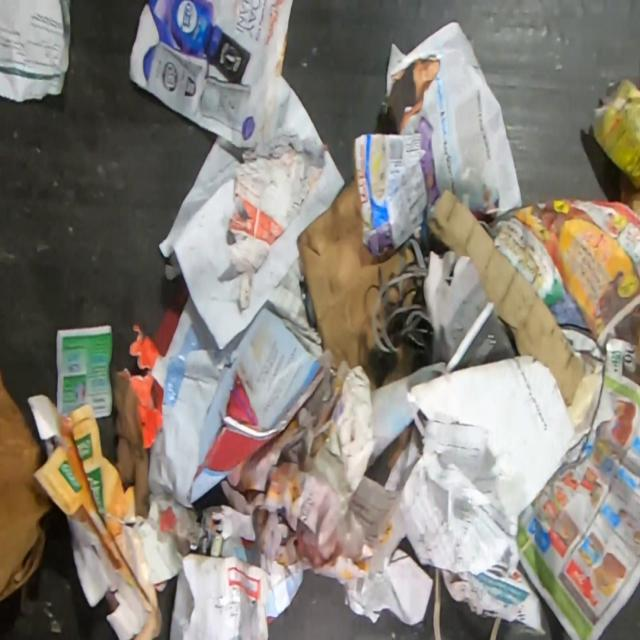cardboard: (297, 172, 416, 369), (0, 368, 53, 603), (112, 324, 164, 520)
